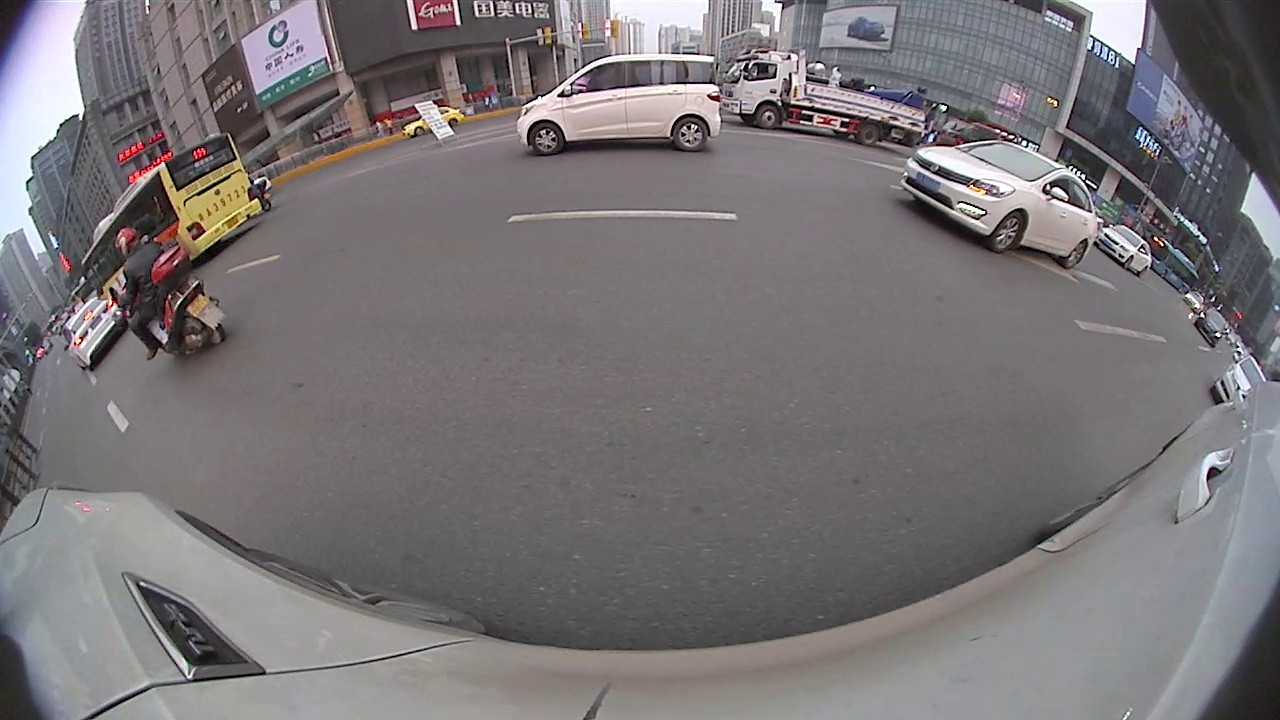bus: (81, 129, 263, 300)
car: (897, 142, 1101, 273), (514, 50, 719, 156), (61, 292, 126, 373), (1211, 359, 1274, 414), (1092, 229, 1158, 276), (400, 106, 467, 142), (1190, 308, 1230, 351)
front: (988, 209, 1026, 256), (528, 122, 567, 157), (756, 102, 781, 133)
rear: (670, 114, 710, 154), (1060, 236, 1088, 270), (857, 122, 881, 148)
rider: (108, 217, 226, 364)
truck: (721, 42, 942, 148)
